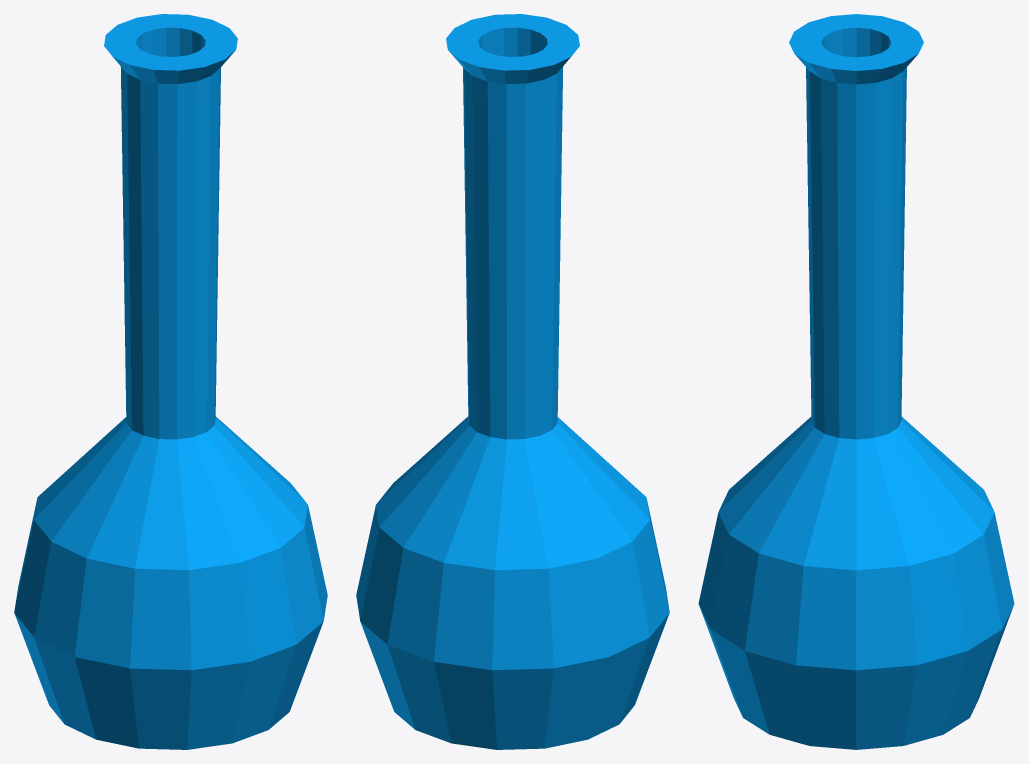
Rendered from 5 flask2.fbx.
3 renders of one model, left to right at view 1: azimuth 30°, elevation 25°; view 2: azimuth 150°, elevation 25°; view 3: azimuth 270°, elevation 25°, orthographic.
Parts seen in each view (by area): view 1: 5 flask2; view 2: 5 flask2; view 3: 5 flask2.
Part boxes in pixels (x1=…): 5 flask2: x1=14, y1=14, x2=327, y2=749; 5 flask2: x1=356, y1=14, x2=669, y2=749; 5 flask2: x1=698, y1=14, x2=1014, y2=749.
Size of the model in its own units: 7.85 by 17.97 by 7.85.
